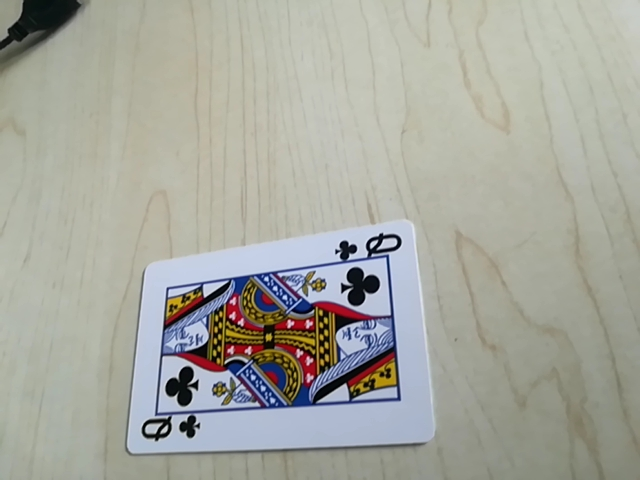mh q: (133, 411, 202, 451), (335, 229, 407, 261)
